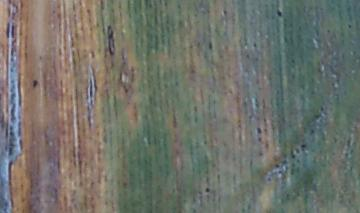tarspot: (106, 23, 115, 55), (275, 6, 284, 17), (31, 78, 40, 88), (207, 39, 214, 51), (255, 126, 263, 135), (289, 149, 296, 159), (299, 142, 307, 150), (255, 150, 264, 157), (221, 8, 229, 15), (272, 162, 280, 169), (309, 127, 316, 135), (319, 104, 325, 112), (256, 136, 263, 142), (347, 22, 353, 29), (252, 41, 258, 48), (204, 187, 211, 192)
